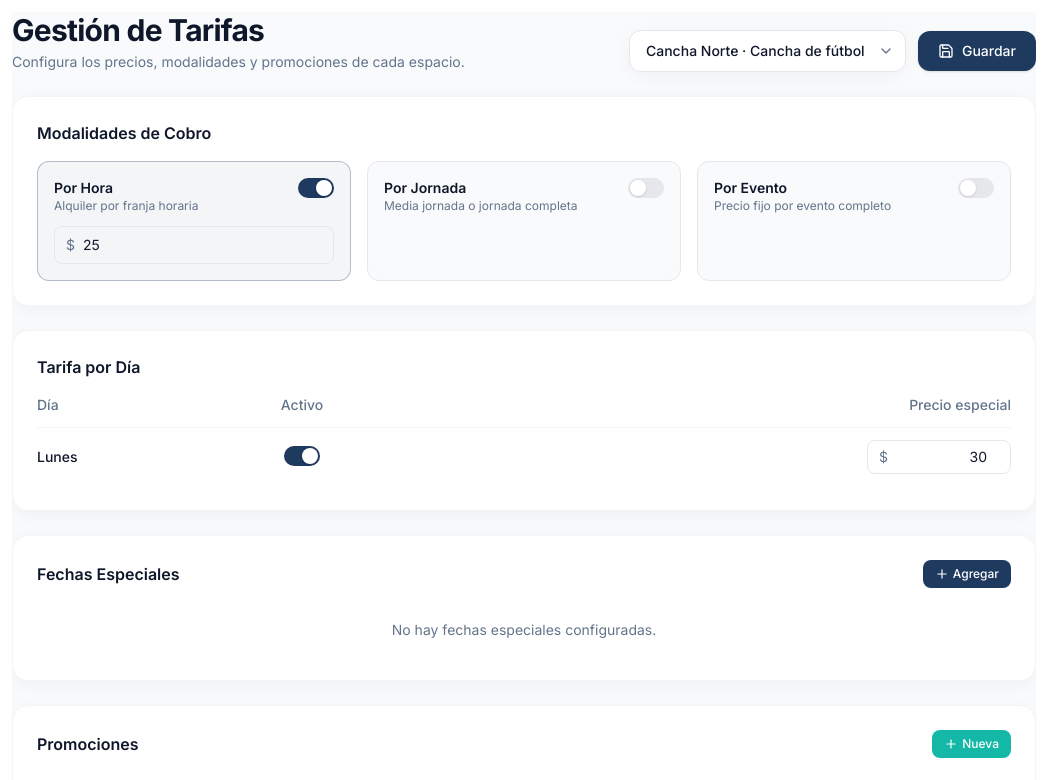
Test: guardado del tarifario › bloquea el guardado si un precio no es positivo
Check: the heading "Modalidades de Cobro" is shown, box [37, 123, 211, 143]
Replace the text in the number field below "Alquiler por franja horaria" with "0" at (194, 245), box [54, 226, 334, 264]
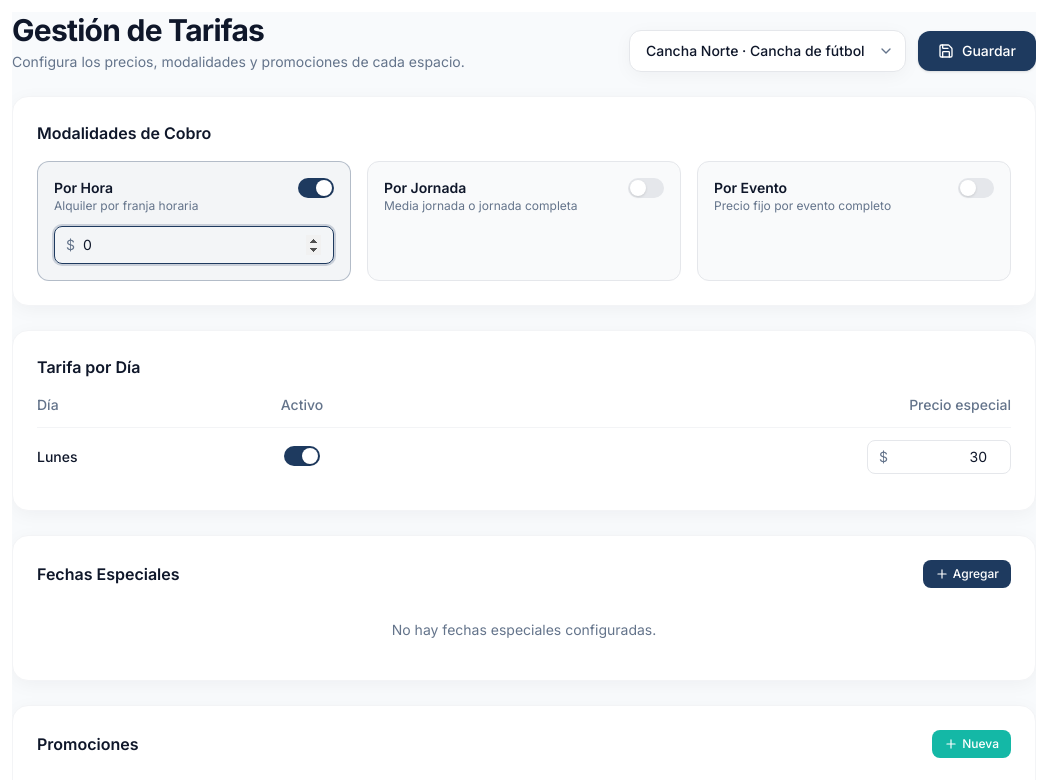
Click the button "Guardar" at (977, 51), box [918, 31, 1036, 71]
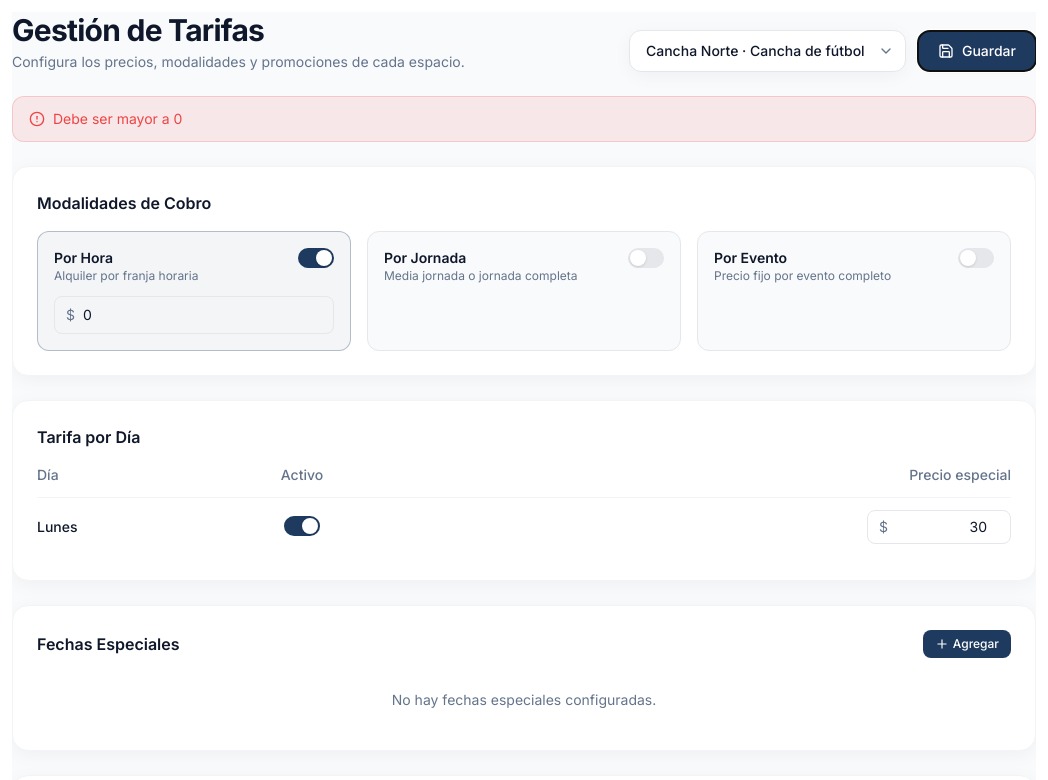
Check: the text "Debe ser mayor a 0" is shown, box [53, 109, 182, 129]
